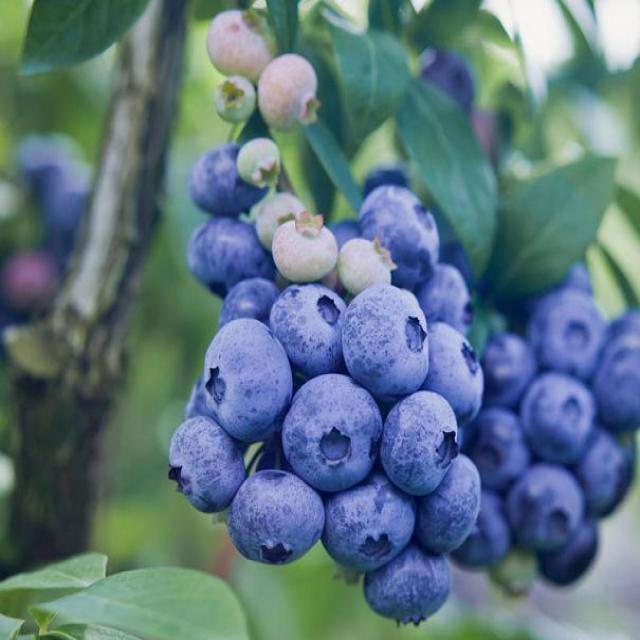BlueBerry - v1: (272, 366, 390, 494), (330, 274, 439, 412), (218, 450, 332, 576), (194, 311, 295, 448), (317, 466, 419, 581), (349, 171, 447, 278), (376, 384, 464, 501), (349, 543, 461, 631), (158, 408, 250, 514), (418, 315, 494, 438), (405, 450, 489, 560), (522, 284, 614, 384), (515, 368, 603, 468), (178, 210, 284, 293), (262, 281, 356, 374), (178, 136, 276, 220), (504, 457, 586, 552), (196, 3, 288, 86), (462, 402, 536, 495), (250, 44, 324, 137), (264, 204, 345, 287), (475, 328, 546, 418), (411, 254, 484, 336), (535, 506, 603, 589), (332, 230, 401, 305), (585, 430, 638, 516), (246, 178, 307, 248), (600, 344, 640, 446), (208, 69, 262, 129), (230, 132, 288, 186)
